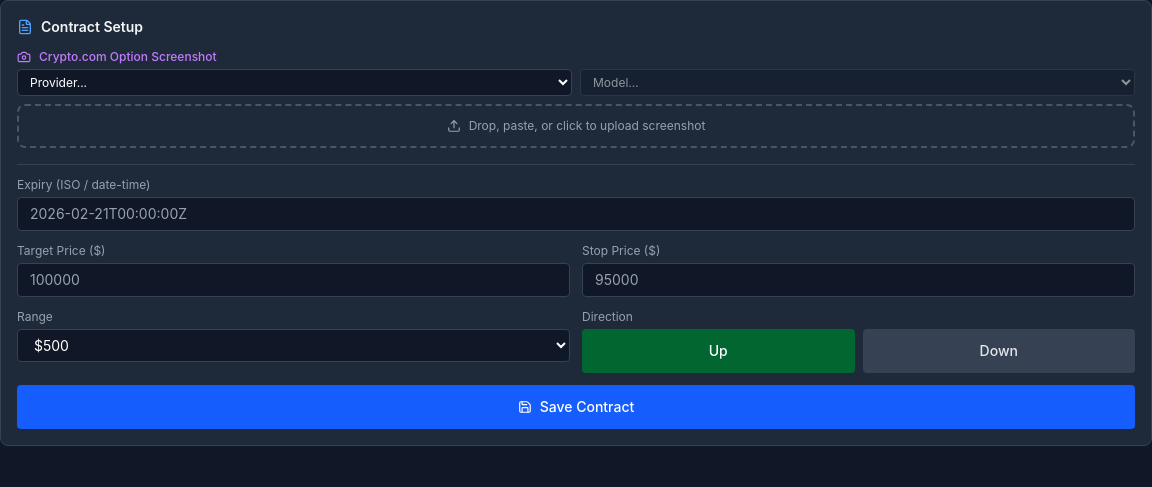
Test: ContractSetup save feedback › keeps a second save's "Saved" for its full two seconds
This screenshot has width=1152, height=487.
Click the button "Save Contract". click: click(576, 407)
box: x1=17 y1=385 x2=1135 y2=429
Wait 1500 ms
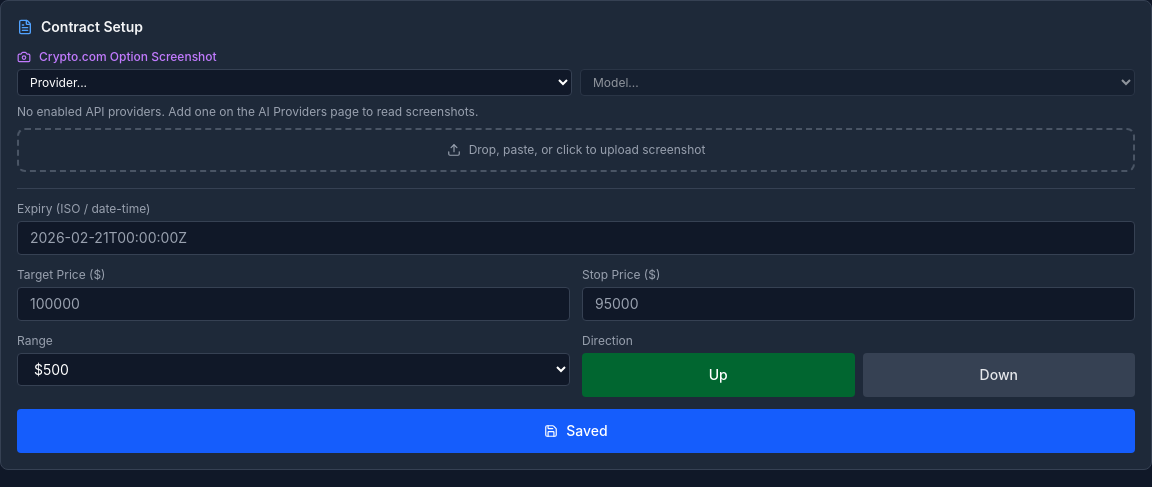
Click the button "Saved". click: click(576, 431)
box: x1=17 y1=409 x2=1135 y2=453
Wait 2000 ms
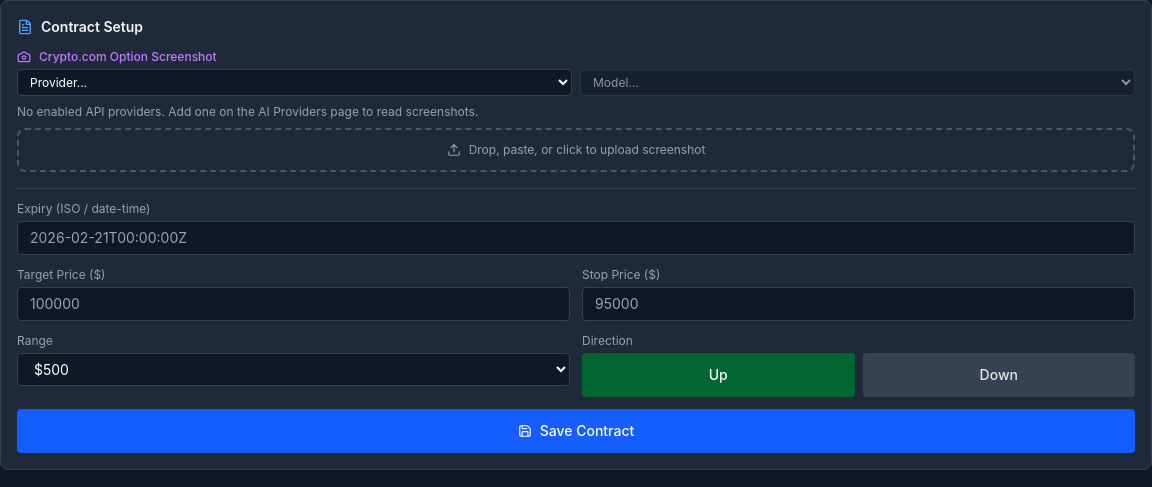
Expected: the button "Save Contract" is shown, x1=17 y1=409 x2=1135 y2=453
